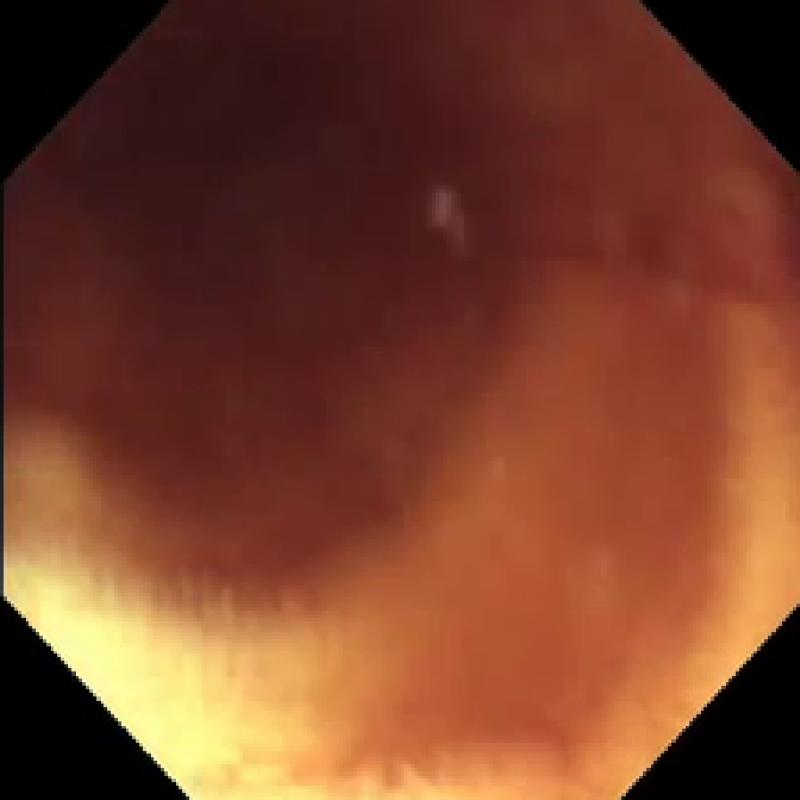bleeding: (0, 0, 800, 747)
